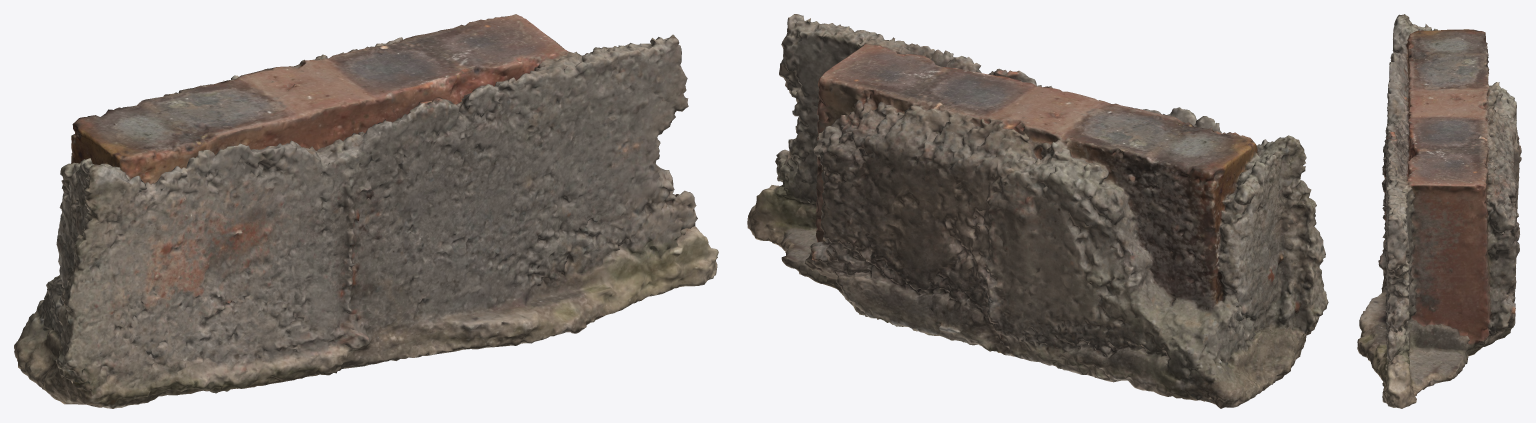
The model's file is PX_Brick_Ruins_20_LOD0.fbx.
The picture shows the model from 3 angles, left to right: view 1: azimuth 30°, elevation 25°; view 2: azimuth 150°, elevation 25°; view 3: azimuth 270°, elevation 25°; orthographic projection. The views are drawn at different scales.
Visible parts, largest first — view 1: PX_Brick_Ruins_20_LOD0; view 2: PX_Brick_Ruins_20_LOD0; view 3: PX_Brick_Ruins_20_LOD0.
Part boxes in pixels (box(x1,y1,x2,y2)): PX_Brick_Ruins_20_LOD0: box(14, 14, 718, 408); PX_Brick_Ruins_20_LOD0: box(747, 14, 1328, 408); PX_Brick_Ruins_20_LOD0: box(1357, 14, 1521, 408).
Size of the model in its own units: 38.74 by 14.6 by 11.87.
